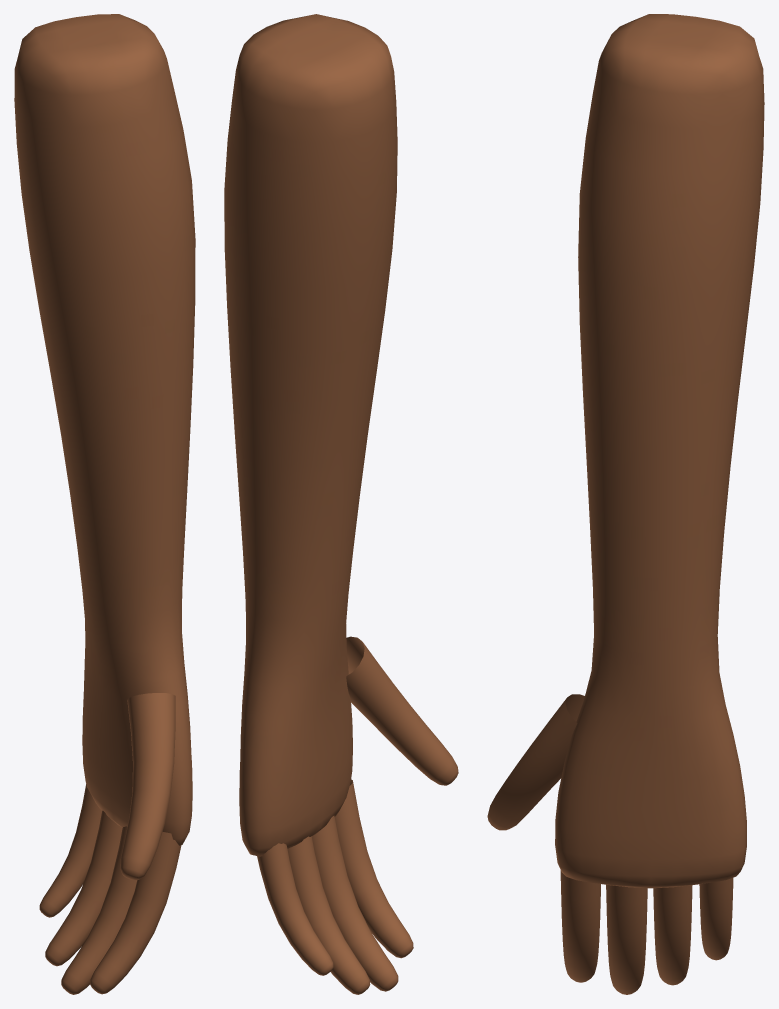
Rendered from antebrazoizq.obj.
3 renders of one model, left to right at view 1: azimuth 30°, elevation 25°; view 2: azimuth 150°, elevation 25°; view 3: azimuth 270°, elevation 25°, orthographic. The views are drawn at different scales.
Parts seen in each view (by area): view 1: AntebrazoIzq; view 2: AntebrazoIzq; view 3: AntebrazoIzq.
Boxes of the visible parts, left/top/right/bottom form: AntebrazoIzq: left=14, top=14, right=195, bottom=994; AntebrazoIzq: left=224, top=14, right=458, bottom=994; AntebrazoIzq: left=487, top=14, right=764, bottom=994.
Bounding box in the file's own units: 0.071 × 0.4174 × 0.1066.
1 material, 1 textured.
